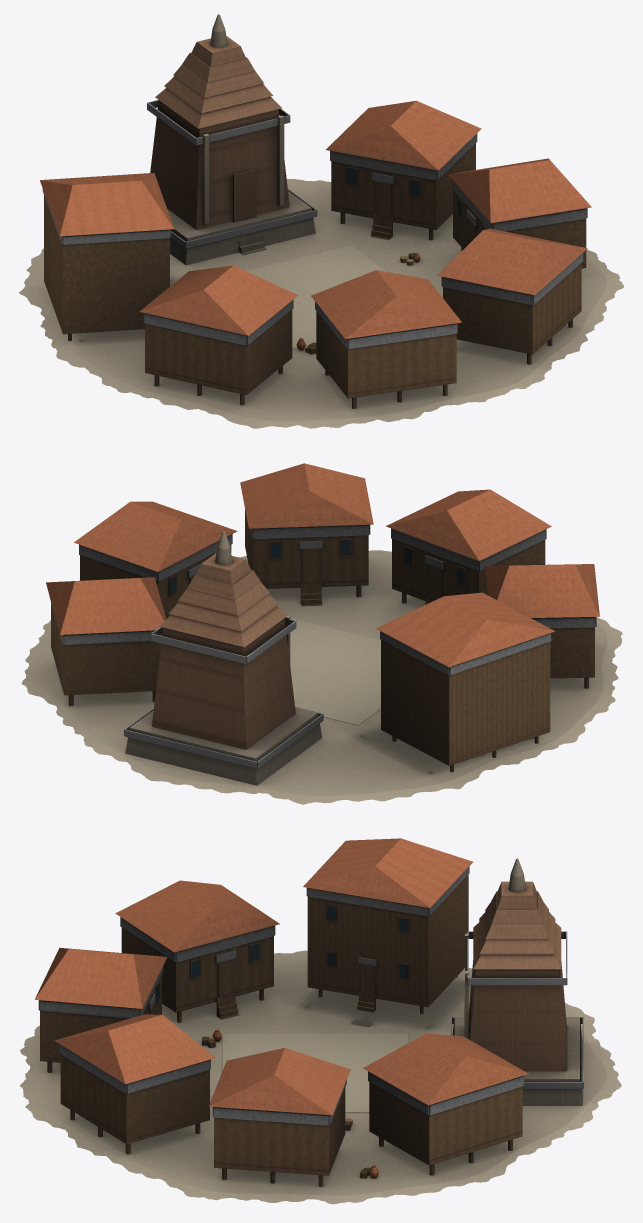
File: classical-town-small-a-monsoon.glb
3 renders of one model, top to bottom at view 1: azimuth 30°, elevation 25°; view 2: azimuth 150°, elevation 25°; view 3: azimuth 270°, elevation 25°, orthographic.
Parts seen in each view (by area): view 1: LOD0; view 2: LOD0; view 3: LOD0.
Boxes of the visible parts, box(x1,y1,x2,y2) form: LOD0: box(19, 14, 623, 428); LOD0: box(21, 463, 622, 804); LOD0: box(19, 838, 621, 1204).
Size of what is drawn, in the model's own units: 3.95 by 1.56 by 3.96.
3 materials, 3 textured.
